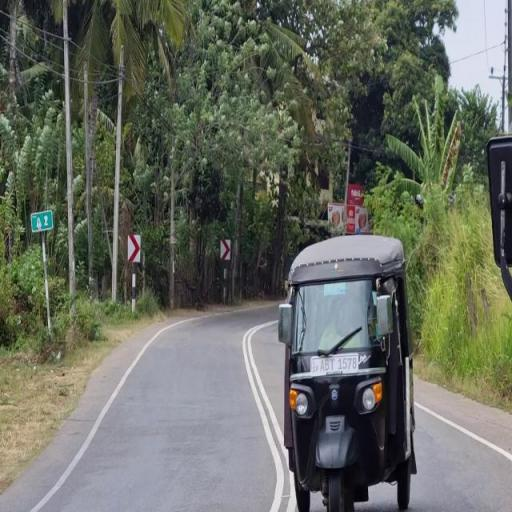double_white_line: (242, 322, 287, 510)
